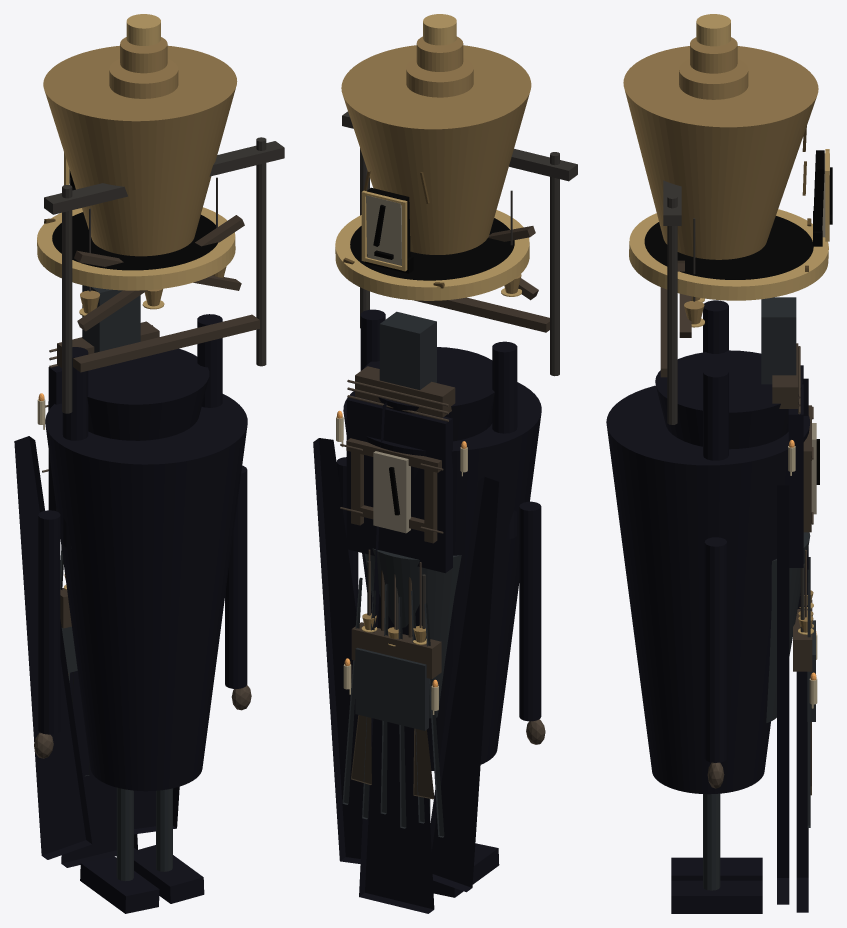
File: bell_saint_v6e_silhouette_cleanup.glb
3 views of the same model, side by side, from view 1: azimuth 30°, elevation 25°; view 2: azimuth 150°, elevation 25°; view 3: azimuth 270°, elevation 25° (orthographic). The views are drawn at different scales.
Parts seen in each view (by area): view 1: BS6E_RobeMain_Stronger, BS6E_BellHead_Main, BS6E_LeftOuterRobeFall, BS6E_UpperChest_SolidDarkPanel, BS6E_LeftForeSleeve, BS6E_BellHeadOuterLip, BS6E_RightForeSleeve, BS6E_FrontCentralBladePanel, BS6E_BackLowCrossbar, BS6E_BellHeadInnerLipShadow, BS6E_BackTopCrossbar, BS6E_LeftFoot (+16 smaller); view 2: BS6E_BellHead_Main, BS6E_RobeMain_Stronger, BS6E_LeftOuterRobeFall, BS6E_FrontCentralBladePanel, BS6E_RightOuterRobeFall, BS6E_DarkChestCover, BS6E_BellHeadOuterLip, BS6E_LeftForeSleeve, BS6E_LowerAltarFrontPlate, BS6E_RobeInnerShadow, BS6E_UpperChest_SolidDarkPanel, BS6E_CentralNeckBlock (+24 smaller); view 3: BS6E_RobeMain_Stronger, BS6E_BellHead_Main, BS6E_UpperChest_SolidDarkPanel, BS6E_RightOuterRobeFall, BS6E_BellHeadOuterLip, BS6E_RightForeSleeve, BS6E_BellHeadInnerLipShadow, BS6E_FrontCentralBladePanel, BS6E_RightFoot, BS6E_CentralNeckBlock, BS6E_RightUpperSleeve, BS6E_DarkChestCover (+16 smaller).
Part boxes in pixels (left/top/right/bottom): BS6E_RobeMain_Stronger: left=45, top=394, right=247, bottom=791; BS6E_BellHead_Main: left=43, top=45, right=237, bottom=256; BS6E_LeftOuterRobeFall: left=14, top=436, right=91, bottom=859; BS6E_UpperChest_SolidDarkPanel: left=87, top=348, right=209, bottom=440; BS6E_LeftForeSleeve: left=38, top=510, right=60, bottom=734; BS6E_BellHeadOuterLip: left=37, top=207, right=235, bottom=290; BS6E_RightForeSleeve: left=225, top=465, right=247, bottom=688; BS6E_FrontCentralBladePanel: left=61, top=671, right=137, bottom=867; BS6E_BackLowCrossbar: left=73, top=314, right=259, bottom=372; BS6E_BellHeadInnerLipShadow: left=52, top=212, right=218, bottom=270; BS6E_BackTopCrossbar: left=44, top=141, right=284, bottom=214; BS6E_LeftFoot: left=80, top=856, right=159, bottom=913; BS6E_BellHead_Main: left=341, top=45, right=531, bottom=254; BS6E_RobeMain_Stronger: left=343, top=382, right=541, bottom=770; BS6E_LeftOuterRobeFall: left=430, top=477, right=499, bottom=892; BS6E_FrontCentralBladePanel: left=359, top=402, right=434, bottom=913; BS6E_RightOuterRobeFall: left=313, top=438, right=363, bottom=863; BS6E_DarkChestCover: left=346, top=394, right=452, bottom=573; BS6E_BellHeadOuterLip: left=335, top=210, right=529, bottom=300; BS6E_LeftForeSleeve: left=519, top=501, right=541, bottom=721; BS6E_LowerAltarFrontPlate: left=355, top=647, right=428, bottom=730; BS6E_RobeInnerShadow: left=364, top=548, right=461, bottom=718; BS6E_UpperChest_SolidDarkPanel: left=364, top=347, right=494, bottom=441; BS6E_CentralNeckBlock: left=379, top=311, right=436, bottom=389; BS6E_RobeMain_Stronger: left=606, top=385, right=810, bottom=794; BS6E_BellHead_Main: left=623, top=46, right=818, bottom=259; BS6E_UpperChest_SolidDarkPanel: left=655, top=350, right=802, bottom=449; BS6E_RightOuterRobeFall: left=777, top=485, right=789, bottom=904; BS6E_BellHeadOuterLip: left=629, top=209, right=828, bottom=300; BS6E_RightForeSleeve: left=704, top=537, right=726, bottom=762; BS6E_BellHeadInnerLipShadow: left=644, top=216, right=813, bottom=279; BS6E_FrontCentralBladePanel: left=796, top=378, right=808, bottom=912; BS6E_RightFoot: left=671, top=880, right=762, bottom=913; BS6E_CentralNeckBlock: left=761, top=297, right=796, bottom=384; BS6E_RightUpperSleeve: left=703, top=366, right=728, bottom=460; BS6E_DarkChestCover: left=788, top=365, right=803, bottom=567.
Size of the model in its own units: 1.24 by 4.45 by 1.04.
